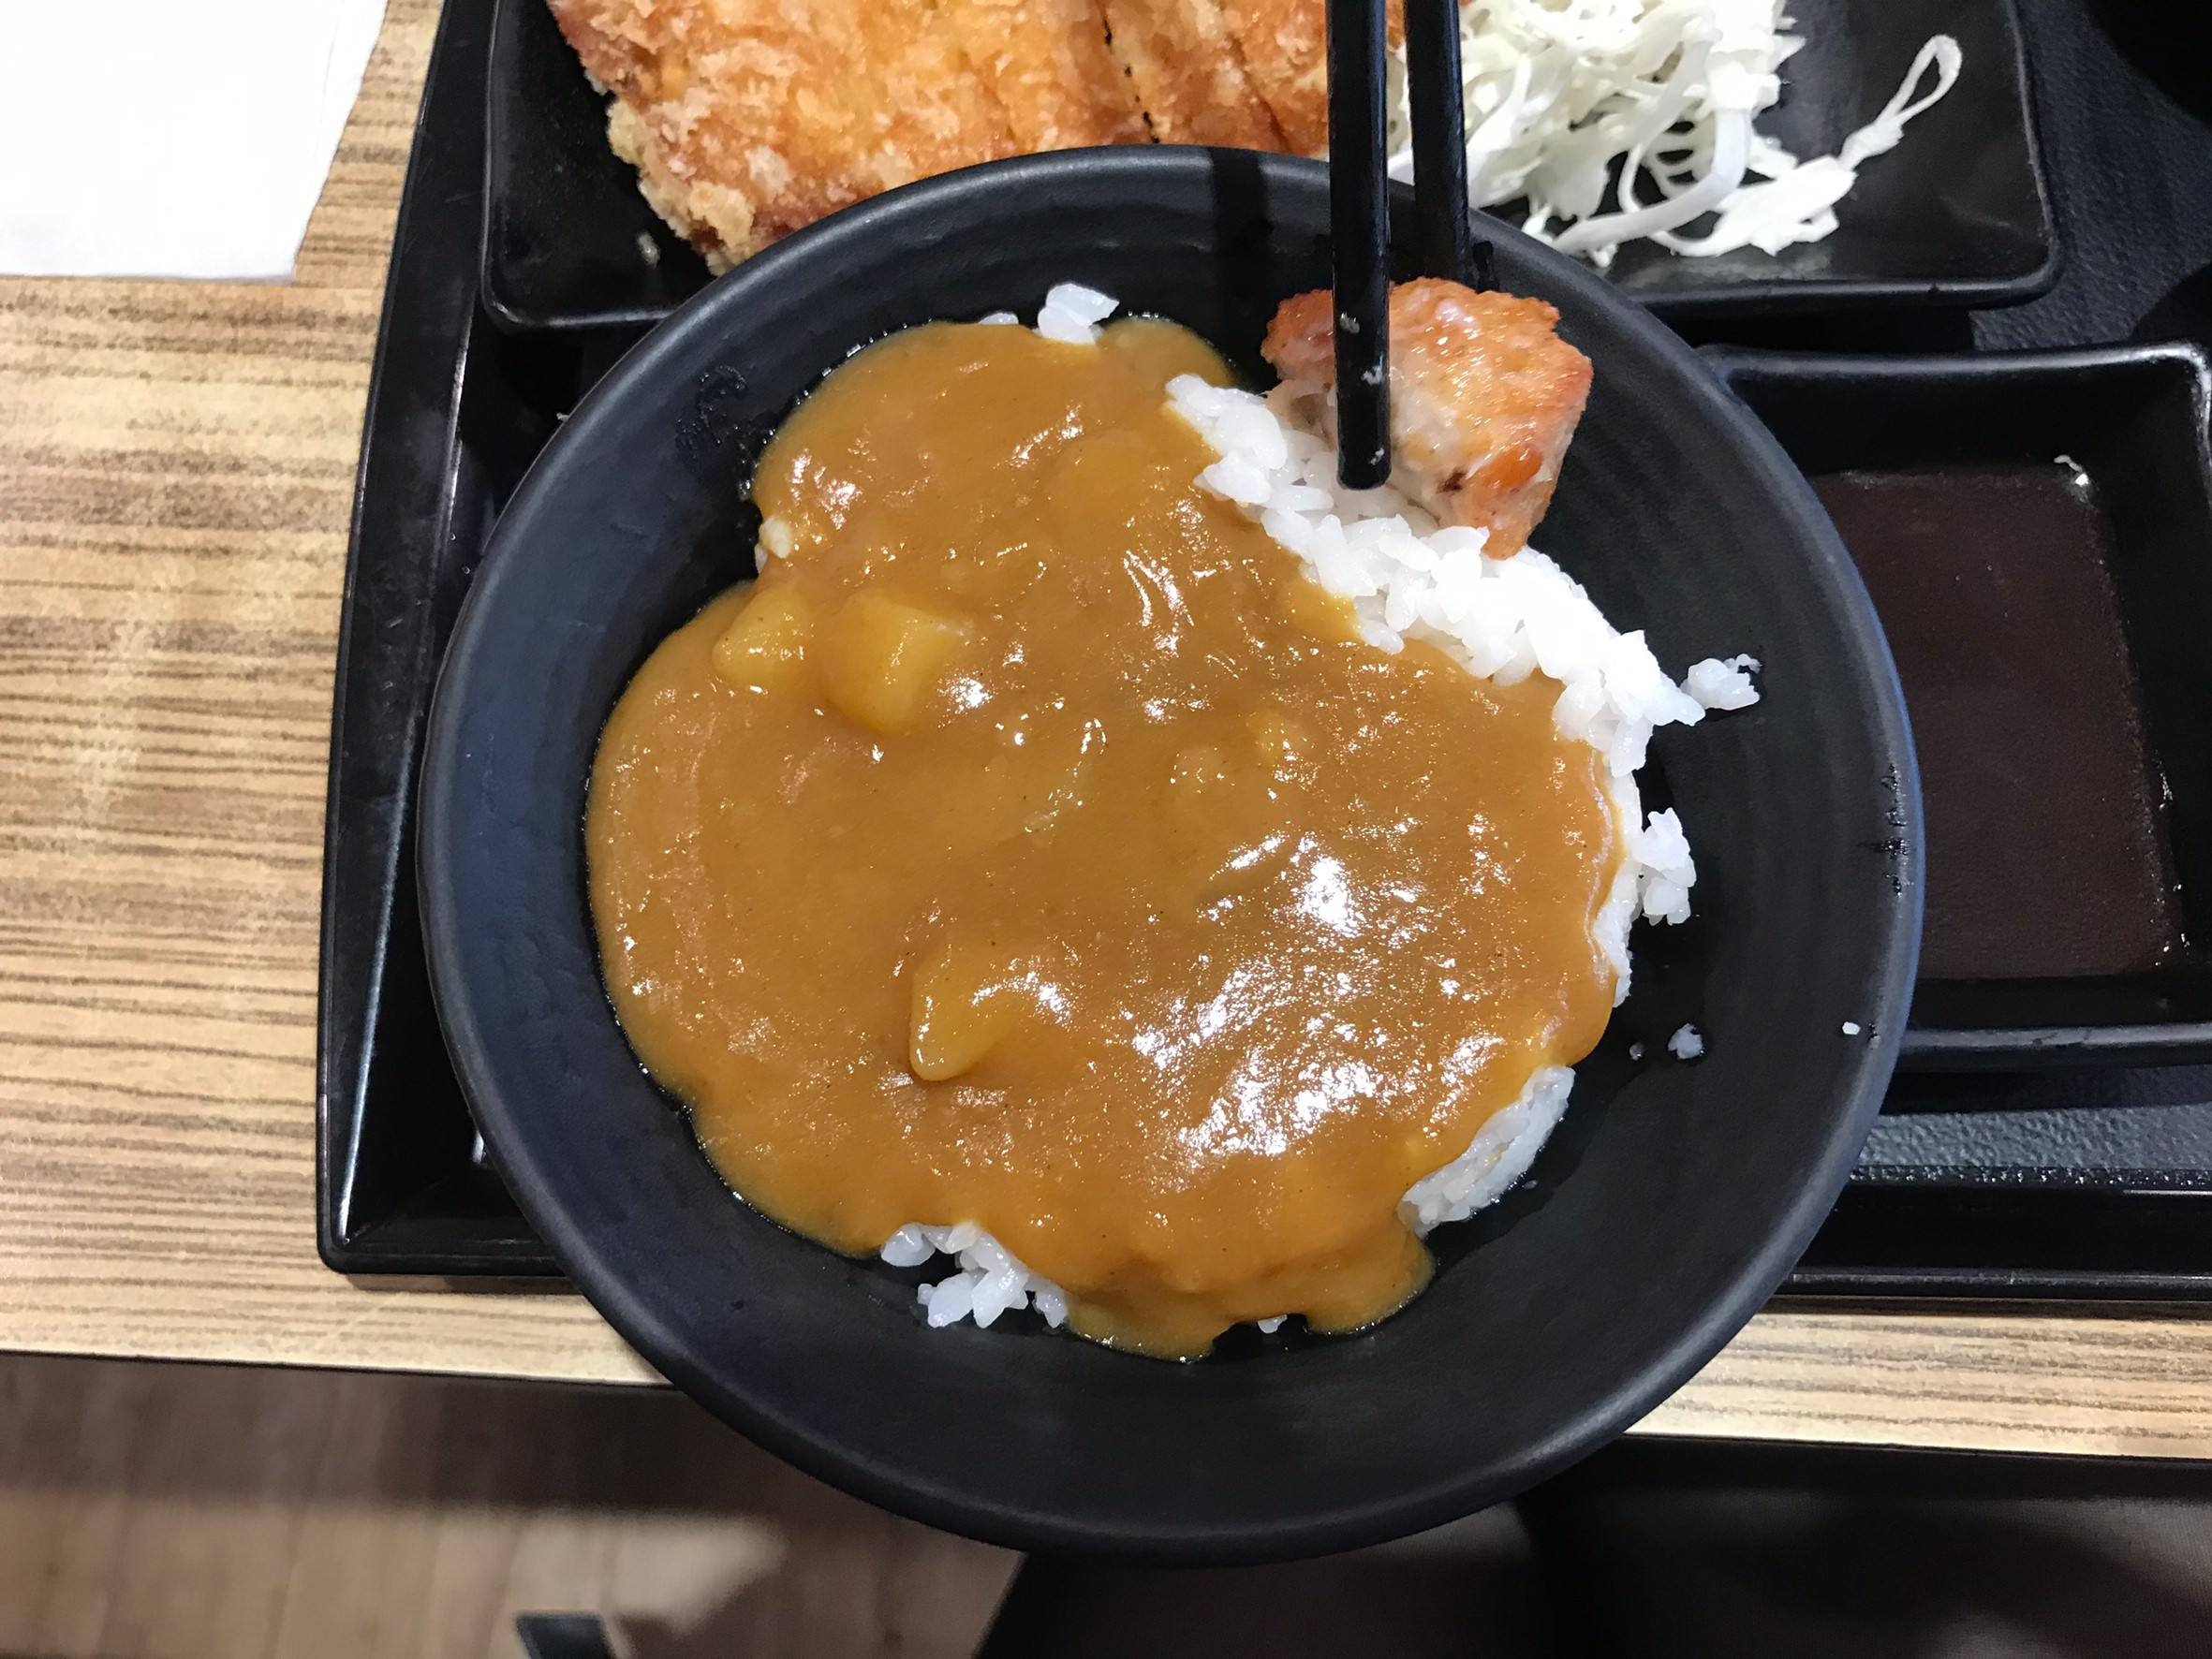curry: (708, 342, 1572, 1258)
